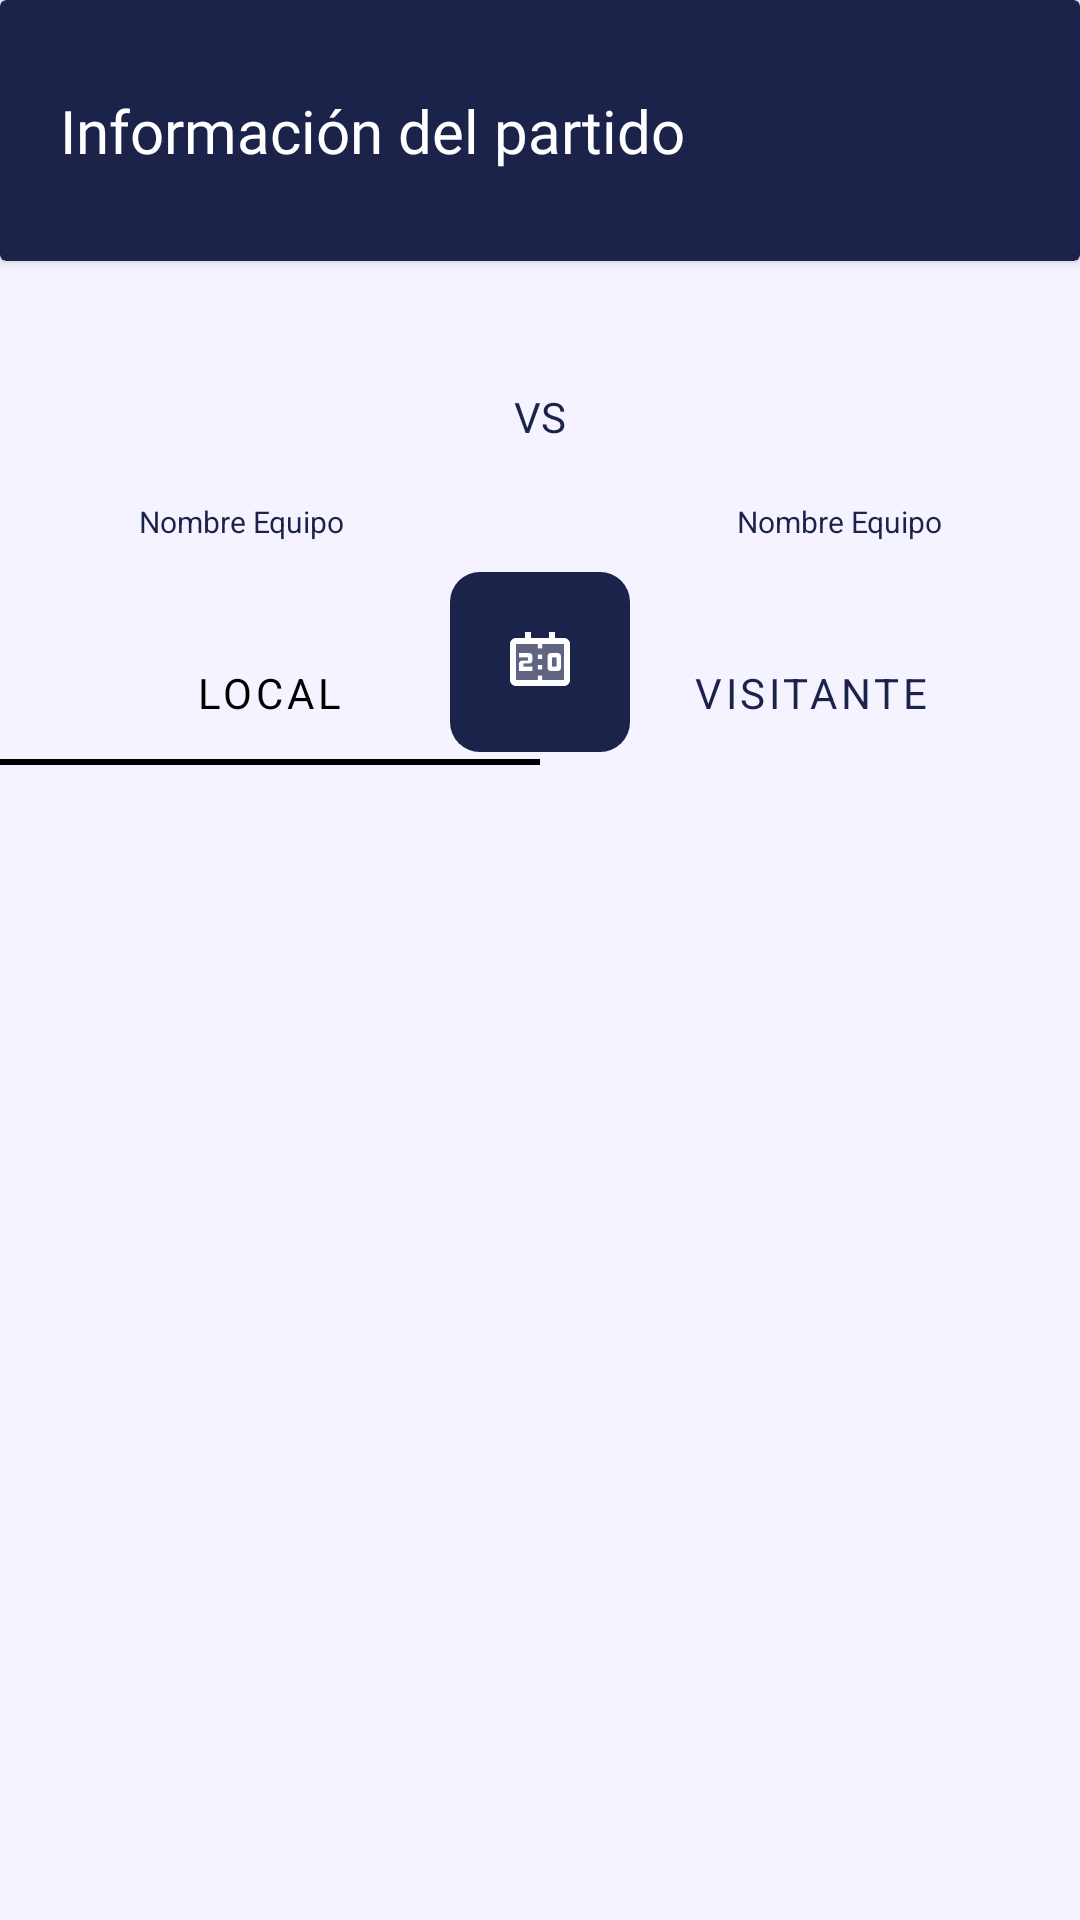

Icons on this 1080*1920 Android screen, each with the point to tap as (x,y):
scoreboard: (540,662)
